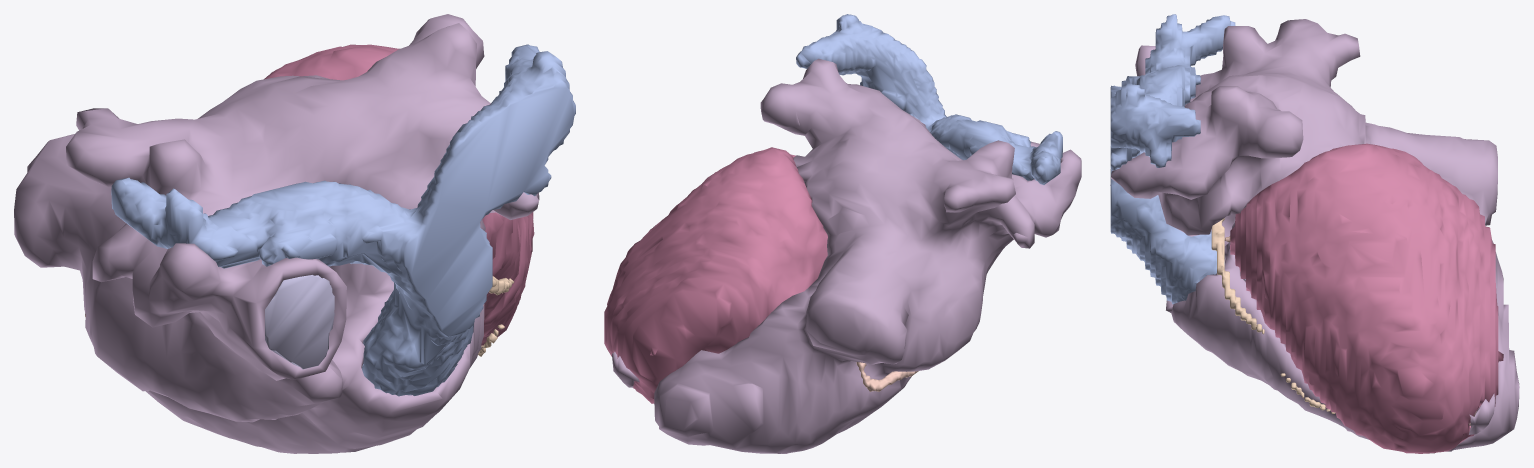
The picture shows the model from 3 angles, left to right: view 1: azimuth 30°, elevation 25°; view 2: azimuth 150°, elevation 25°; view 3: azimuth 270°, elevation 25°; orthographic projection. The views are drawn at different scales.
Visible parts, largest first — view 1: heart-wall, pulmonary-artery, myocardium, right-atrium, left-coronary-artery; view 2: heart-wall, myocardium, pulmonary-artery, right-coronary-artery; view 3: myocardium, heart-wall, pulmonary-artery, left-coronary-artery.
Part boxes in pixels (<box>): heart-wall: <box>14,14,539,453</box>; pulmonary-artery: <box>111,44,575,396</box>; myocardium: <box>264,44,534,345</box>; right-atrium: <box>265,275,334,369</box>; left-coronary-artery: <box>478,276,514,356</box>; heart-wall: <box>612,58,1081,453</box>; myocardium: <box>604,147,827,403</box>; pulmonary-artery: <box>796,14,1062,184</box>; right-coronary-artery: <box>856,362,918,391</box>; myocardium: <box>1230,143,1503,453</box>; heart-wall: <box>1110,19,1519,451</box>; pulmonary-artery: <box>1110,14,1235,304</box>; left-coronary-artery: <box>1211,218,1335,413</box>.
Size of the model in its own units: 137 by 118 by 123.
